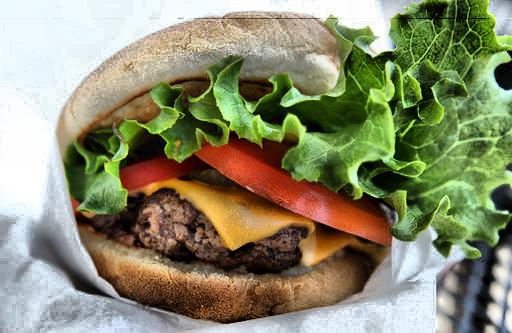burger: (67, 24, 441, 314)
